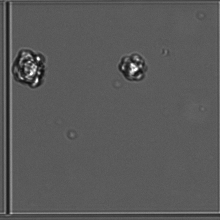Living Cell: (9, 46, 56, 93), (117, 48, 155, 86)
